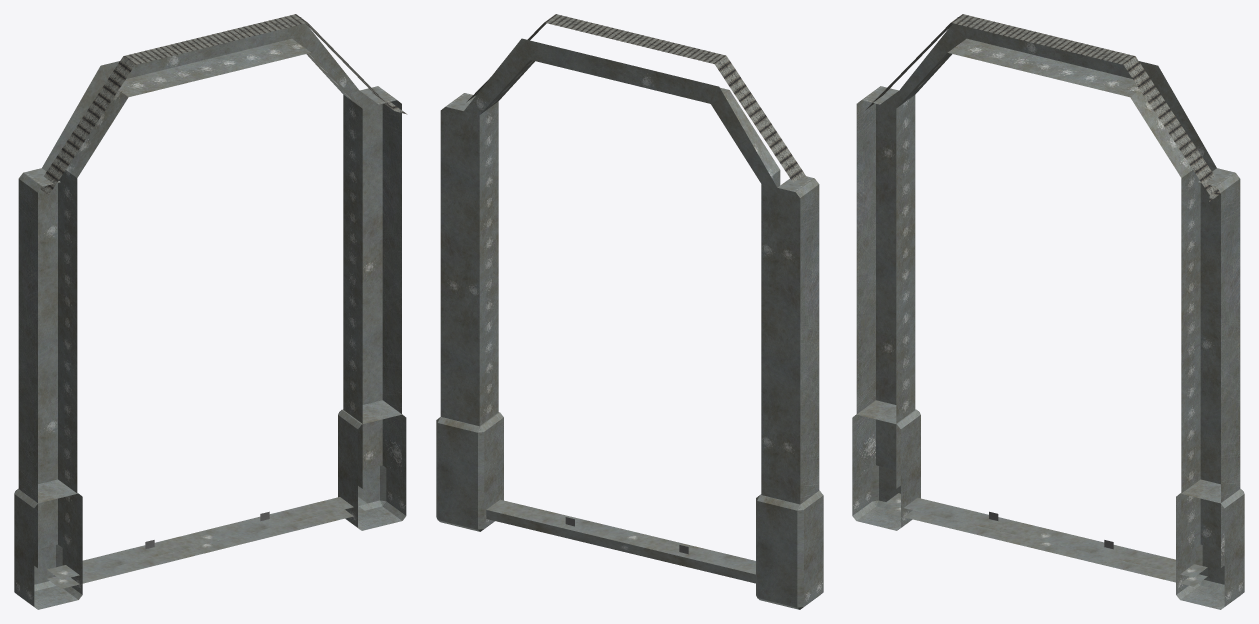
The model's file is Ob_TunnelWithArrowsConnector_RC.fbx.
3 renders of one model, left to right at view 1: azimuth 30°, elevation 25°; view 2: azimuth 150°, elevation 25°; view 3: azimuth 330°, elevation 25°, orthographic.
Visible parts, largest first — view 1: Ob_TunnelWithArrowsConnector_RC; view 2: Ob_TunnelWithArrowsConnector_RC; view 3: Ob_TunnelWithArrowsConnector_RC.
Boxes of the visible parts, <box> form: Ob_TunnelWithArrowsConnector_RC: <box>14,14,407,609</box>; Ob_TunnelWithArrowsConnector_RC: <box>436,14,823,609</box>; Ob_TunnelWithArrowsConnector_RC: <box>852,14,1244,609</box>.
Size of the model in its own units: 2493 by 3345 by 359.
